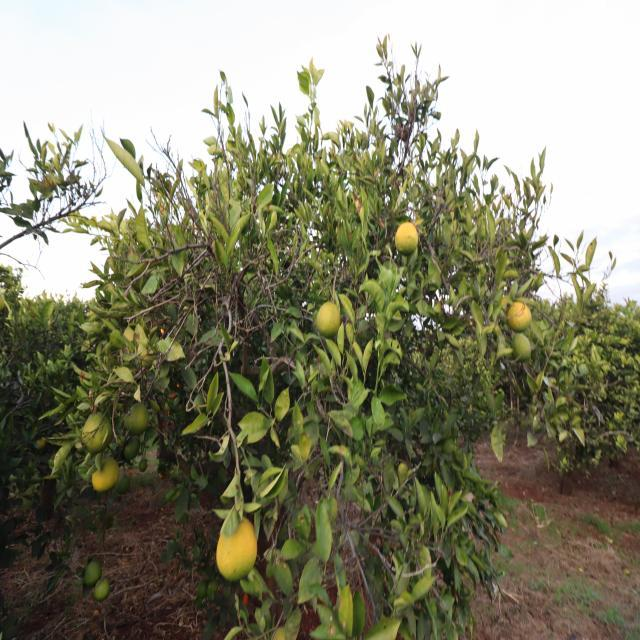Jeruk Belum Matang: (217, 518, 256, 582), (82, 414, 112, 450), (92, 458, 120, 492), (318, 302, 340, 336), (396, 222, 419, 254), (509, 332, 532, 362), (128, 403, 148, 437), (510, 302, 531, 330), (138, 343, 158, 369), (84, 562, 102, 586), (123, 438, 140, 460), (94, 581, 111, 600)
